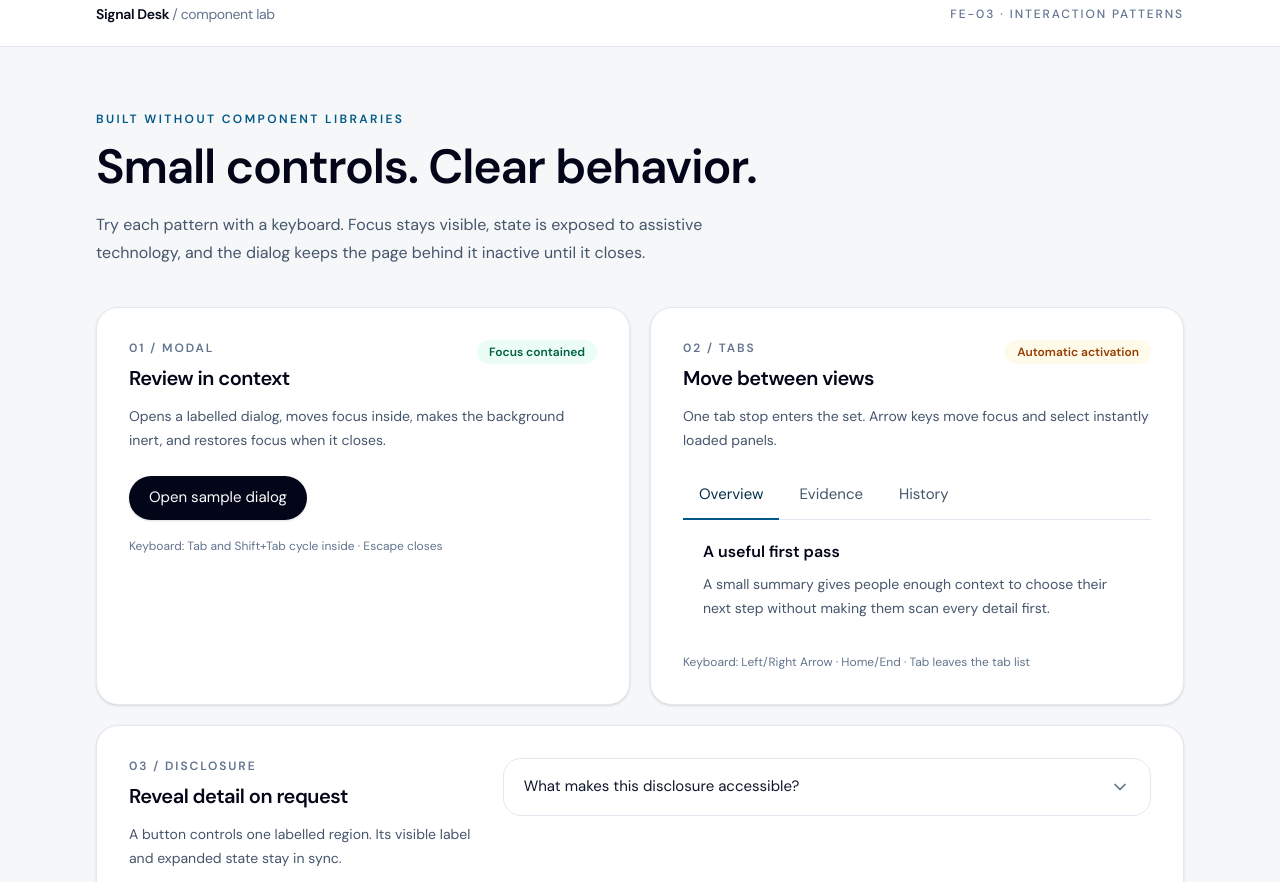
Test: accessible widgets › toggles a disclosure and synchronizes its accessible state
The image size is (1280, 882).
Click the button "What makes this disclosure accessible?" at point(662, 786), box [504,759,1150,815]
(page scrolled)
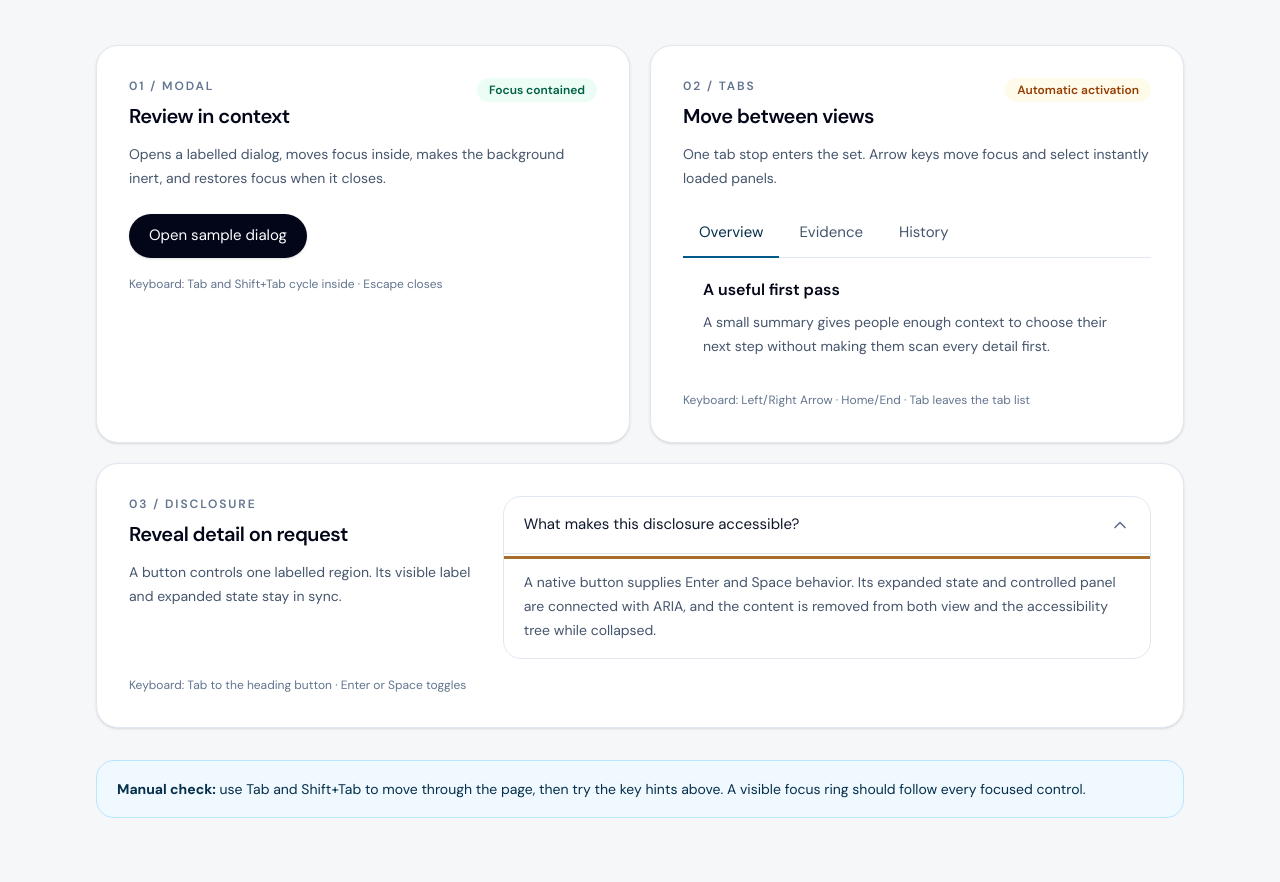
Expected: the button "What makes this disclosure accessible?" is expanded, [504,497,1150,553]
Expected: the text named "What makes this disclosure accessible?" is shown, [504,553,1150,658]
Type keys " "
(page scrolled)
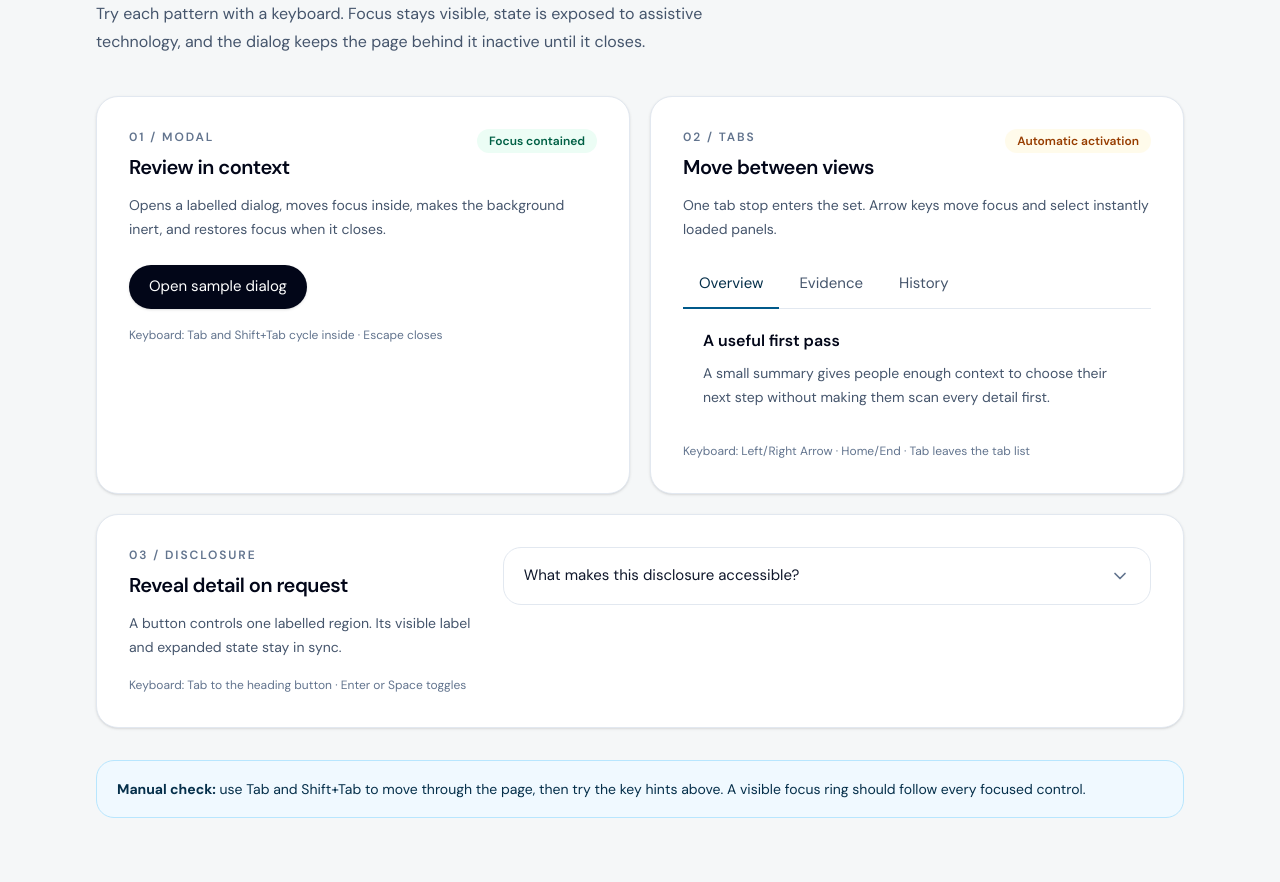
Expected: the button "What makes this disclosure accessible?" is collapsed, [504,548,1150,604]
